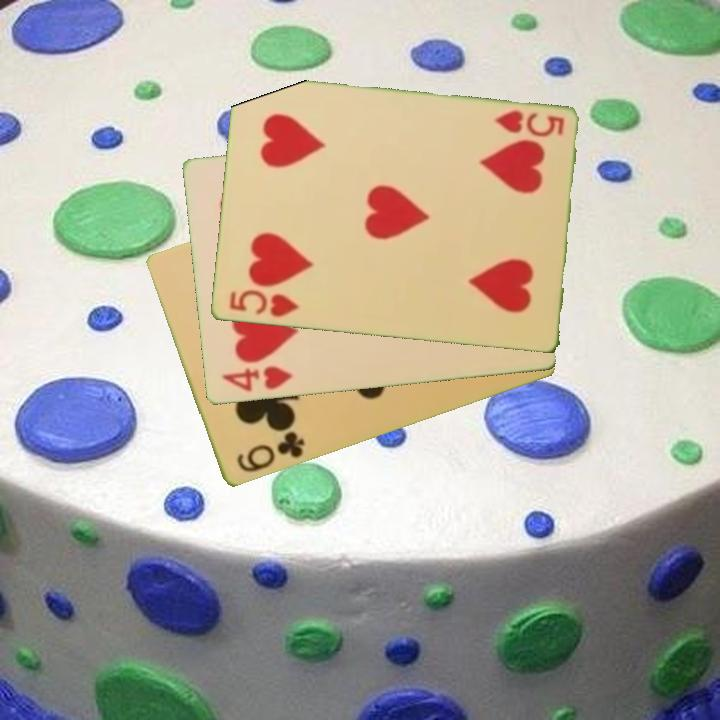4h: (219, 362, 295, 395)
5h: (225, 286, 302, 320), (490, 107, 567, 140)
6c: (233, 428, 308, 476)
